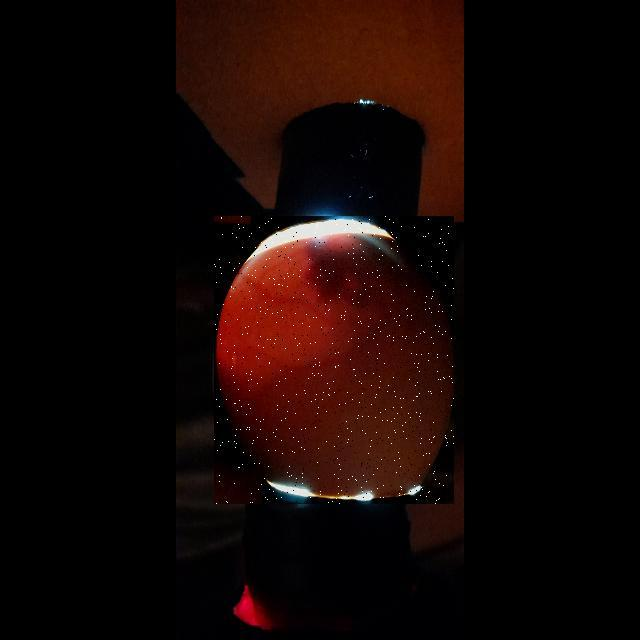Fertile: (214, 216, 454, 504)
